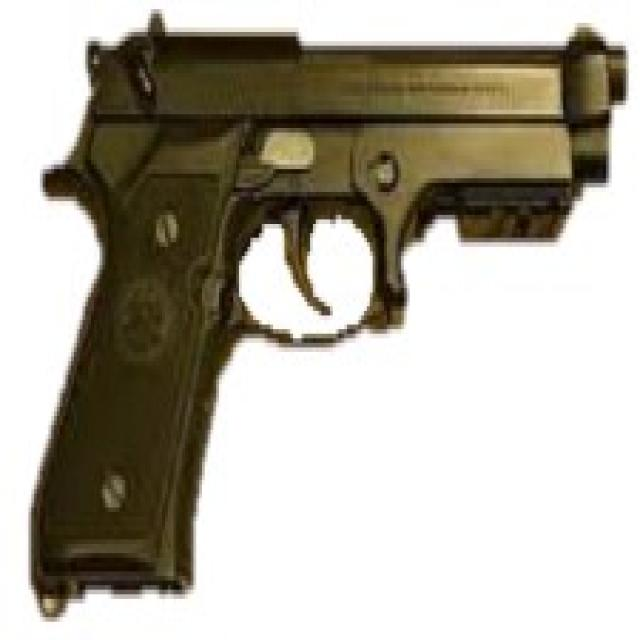pistol: (15, 9, 633, 624)
